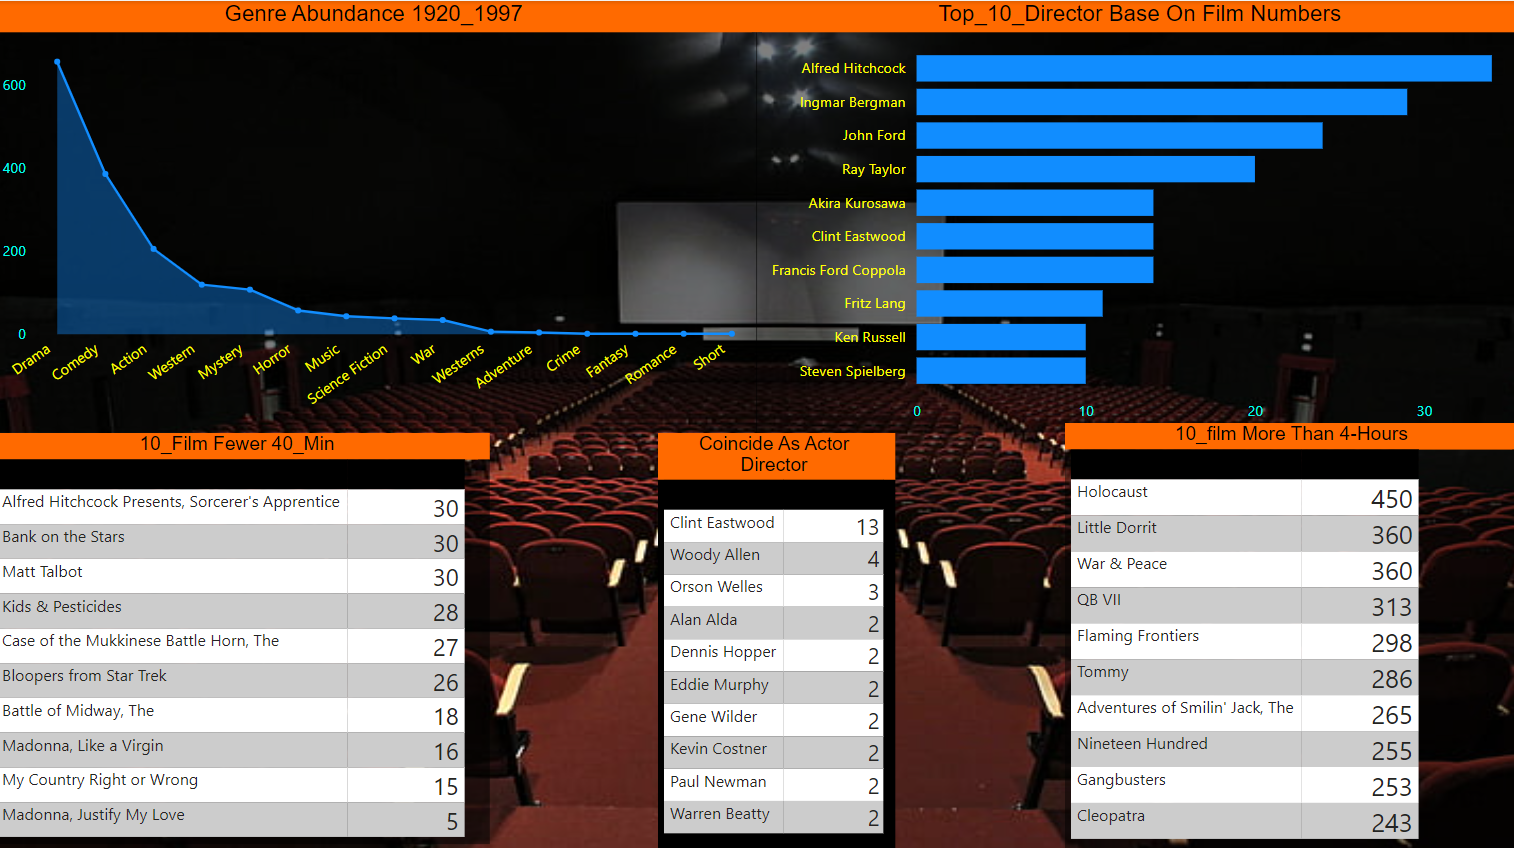

This screenshot's page, from the dashboard's own definition file:
{"tool":"powerbi","page":{"name":"Page 1","canvas":[1280,720],"ordinal":0},"visuals":[{"type":"areaChart","title":"Genre Abundance 1920_1997","fields":{"Category":["Genres.Genre"],"Y":["Genres.No"]},"box":[0,0,640.3,360.4],"z":0},{"type":"barChart","title":"Top_10_Director Base On  Film Numbers","fields":{"Y":["10_Directors_MostFilm.Num"],"Category":["10_Directors_MostFilm.Name"]},"box":[639.4,0,640.3,360.4],"z":1000},{"type":"pivotTable","title":"Coincide As Actor Director","fields":{"Rows":["Act_Dir.Name"],"Values":["Act_Dir.Num"]},"box":[557,360.4,198.4,359.6],"z":2000},{"type":"pivotTable","title":"10_Film Fewer 40_Min","fields":{"Rows":["10Film_Fewer_40min.Title"],"Values":["10Film_Fewer_40min.Length"]},"box":[0,360.4,417.1,342.7],"z":3000},{"type":"pivotTable","title":"10_film More Than 4-Hours","fields":{"Rows":["10Film_More_Than_4h.Title"],"Values":["10Film_More_Than_4h.Length"]},"box":[897.1,352.5,382.6,367.5],"z":4000}]}

Visuals, with their boxes in screenshot pixels (x1, y1, x2, y2), scaled from the page's 1280x720 canvas onto the 1514x848 screenshot:
"Genre Abundance 1920_1997" areaChart: bbox(0, 0, 757, 424)
"Top_10_Director Base On  Film Numbers" barChart: bbox(756, 0, 1513, 424)
"Coincide As Actor Director" pivotTable: bbox(659, 424, 893, 847)
"10_Film Fewer 40_Min" pivotTable: bbox(0, 424, 493, 828)
"10_film More Than 4-Hours" pivotTable: bbox(1061, 415, 1513, 847)
